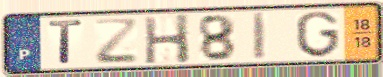8: (196, 13, 238, 62)
G: (293, 10, 342, 59)
H: (142, 13, 193, 66)
I: (250, 10, 270, 61)
T: (46, 18, 86, 66)
Z: (92, 18, 140, 66)
